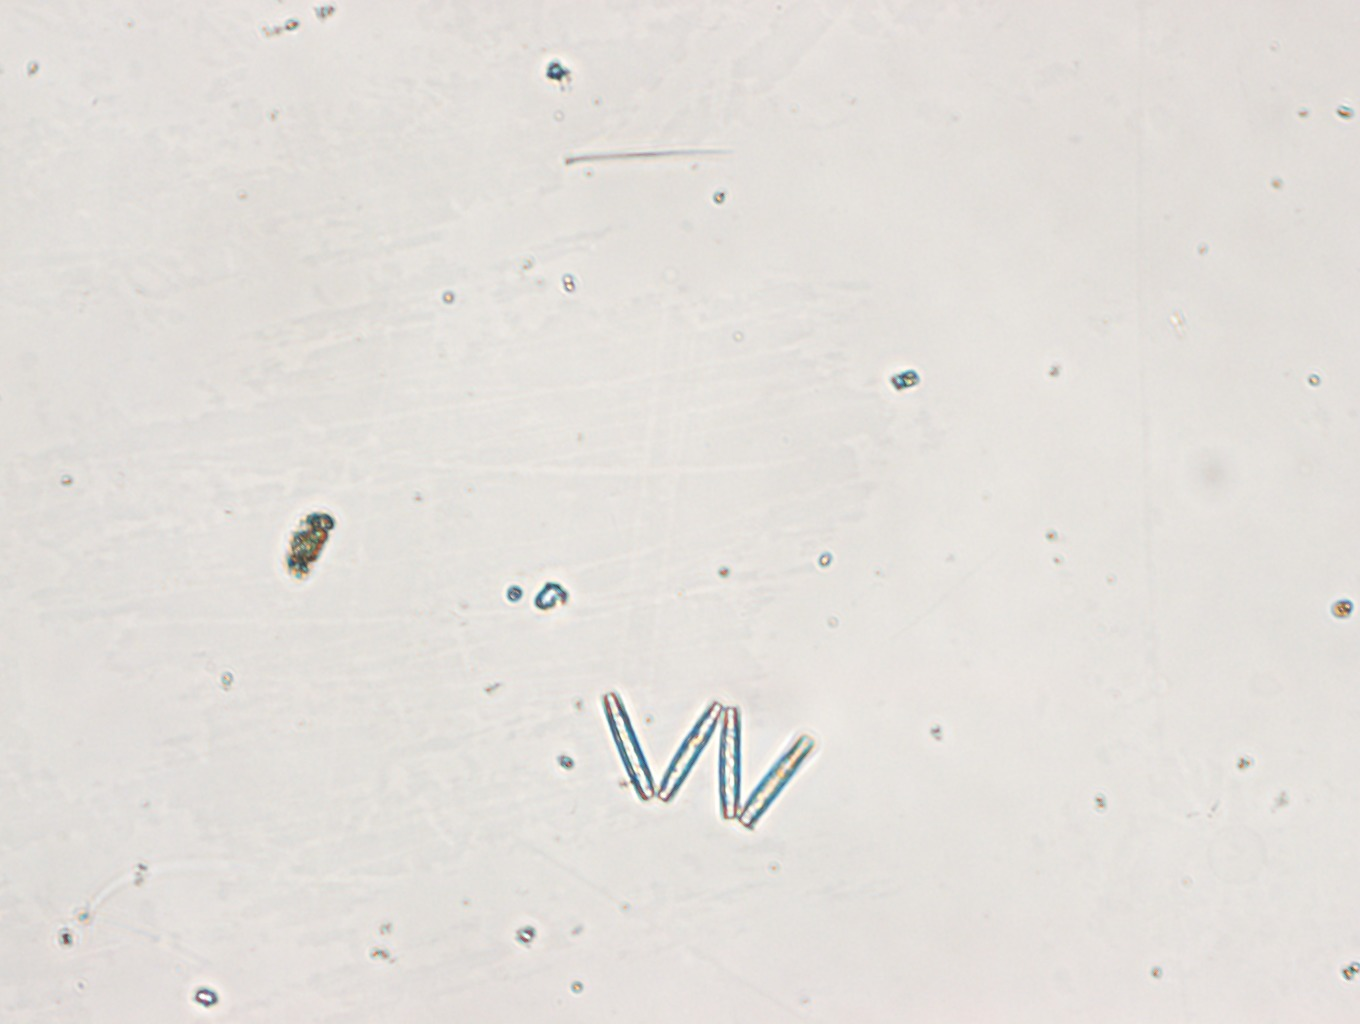thalassionema nitzschioides: (597, 684, 818, 831)
